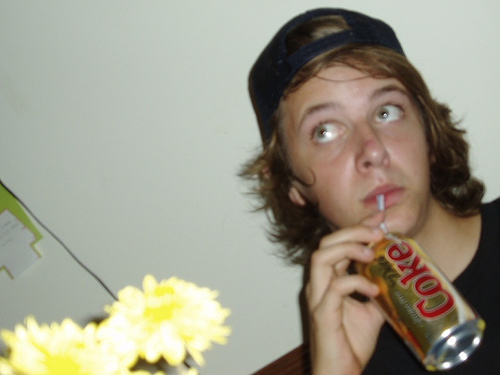without_mask: (273, 62, 439, 244)
